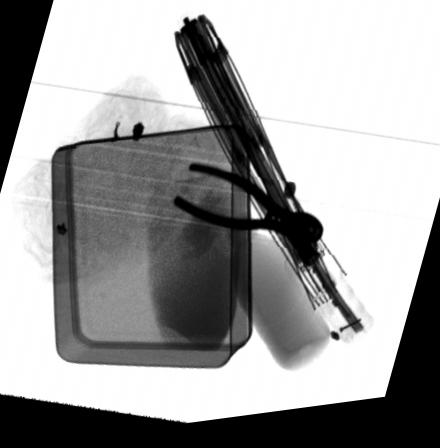Pliers: (172, 167, 324, 276)
